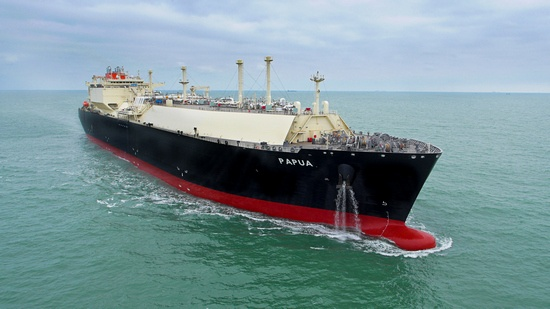Cargoship: (78, 57, 444, 255)
